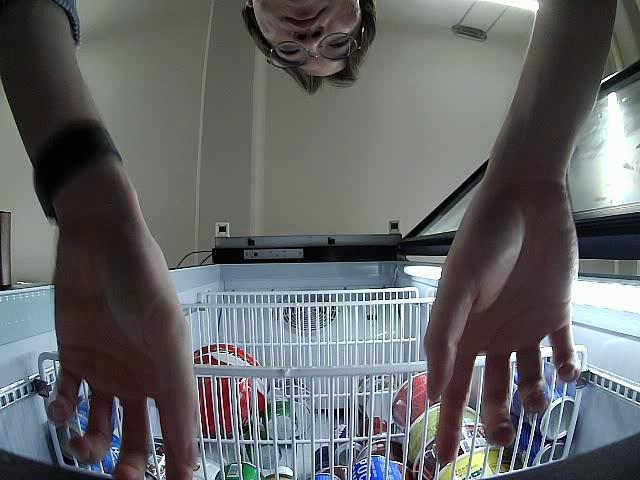00_hand: (422, 195, 581, 464), (46, 254, 198, 480)
